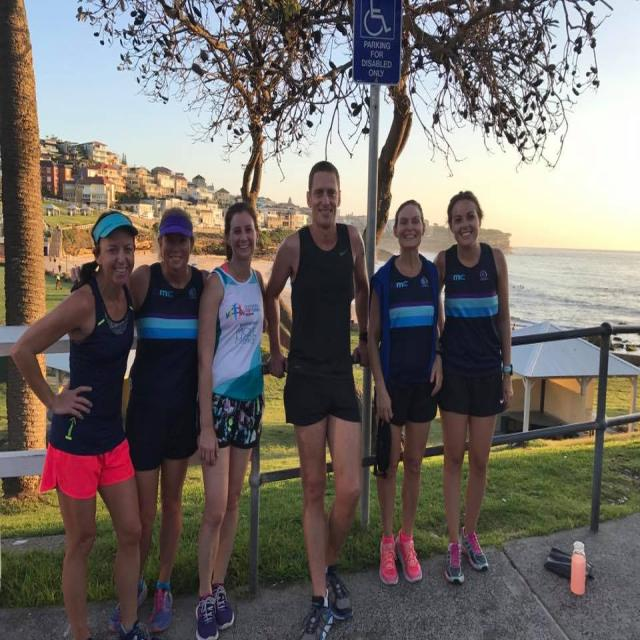body: (4, 206, 159, 640), (68, 204, 214, 636), (259, 158, 374, 639), (192, 198, 292, 640), (425, 187, 517, 591), (364, 195, 449, 589)
